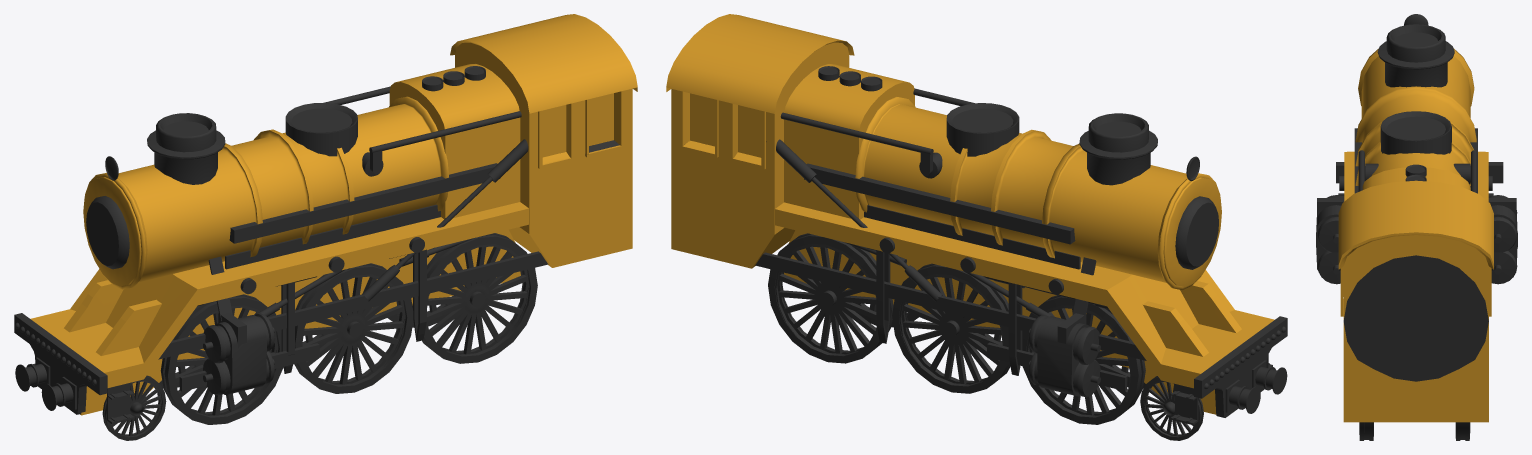
Rendered from YellowTrain.fbx.
The picture shows the model from 3 angles, left to right: view 1: azimuth 30°, elevation 25°; view 2: azimuth 150°, elevation 25°; view 3: azimuth 270°, elevation 25°; orthographic projection. The views are drawn at different scales.
Parts seen in each view (by area): view 1: YellowTrain; view 2: YellowTrain; view 3: YellowTrain.
Part boxes in pixels (bbox=[...]): YellowTrain: bbox=[14, 14, 637, 440]; YellowTrain: bbox=[666, 14, 1287, 440]; YellowTrain: bbox=[1316, 14, 1517, 440].
Bounding box in the file's own units: 13.54 × 6.47 × 4.32.
Materials: 1 (1 with a texture image).
